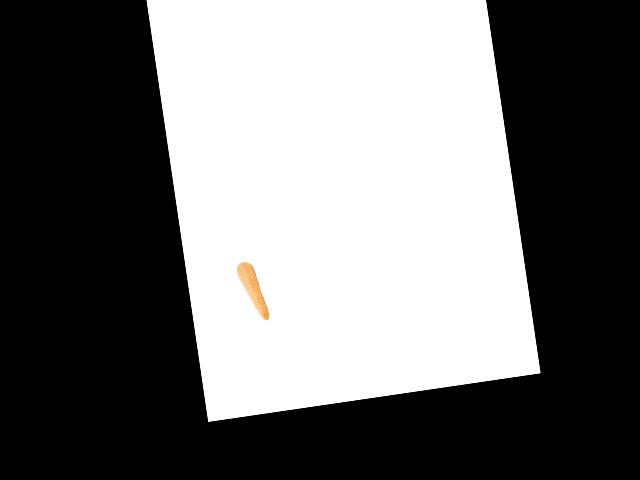carrot: (233, 258, 270, 326)
